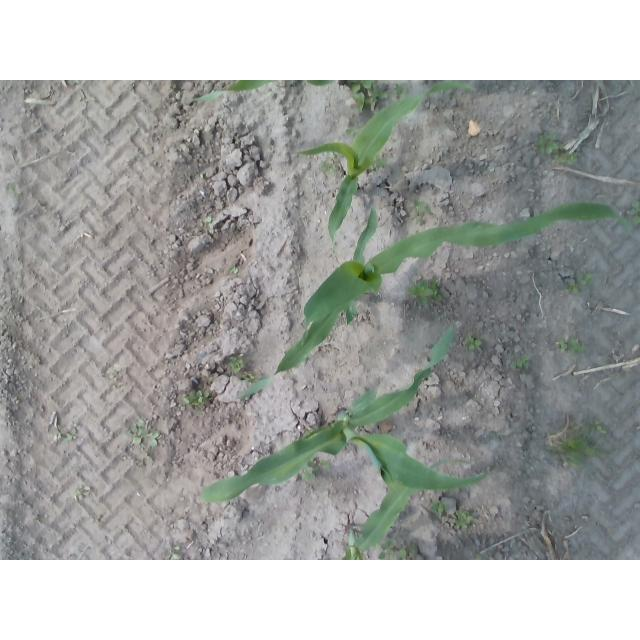Maize: (235, 203, 633, 401), (198, 326, 488, 504), (300, 83, 476, 249), (343, 457, 469, 560), (196, 80, 357, 101)
Weeds: (351, 83, 388, 110), (408, 280, 440, 304), (567, 436, 594, 464), (539, 134, 558, 156), (130, 420, 146, 445), (131, 446, 154, 462), (455, 509, 473, 529), (184, 390, 213, 402), (510, 355, 530, 370), (379, 541, 395, 559), (231, 354, 247, 372), (144, 428, 160, 446), (398, 545, 416, 559), (73, 486, 91, 499), (414, 200, 431, 213), (321, 163, 340, 174), (560, 151, 577, 162), (304, 467, 317, 481), (580, 270, 592, 285), (242, 371, 258, 382), (568, 280, 581, 293), (468, 335, 480, 349), (7, 185, 22, 196), (431, 501, 445, 512), (572, 340, 584, 352), (396, 85, 408, 97), (595, 422, 606, 435), (376, 159, 390, 168), (109, 367, 120, 378), (70, 424, 83, 433), (321, 460, 332, 470), (412, 214, 424, 223), (557, 341, 567, 351), (345, 125, 356, 134), (203, 216, 213, 225), (66, 433, 76, 440), (232, 267, 239, 274), (565, 335, 570, 341)
